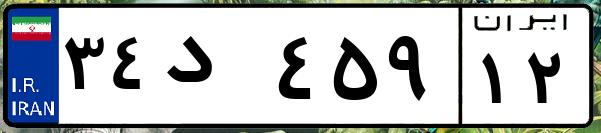1: (475, 38, 525, 113)
2: (525, 38, 570, 115)
3: (57, 26, 110, 100)
4: (270, 28, 330, 110), (110, 28, 158, 98)
5: (330, 28, 385, 110)
9: (385, 28, 445, 110)
د: (158, 20, 270, 120)
